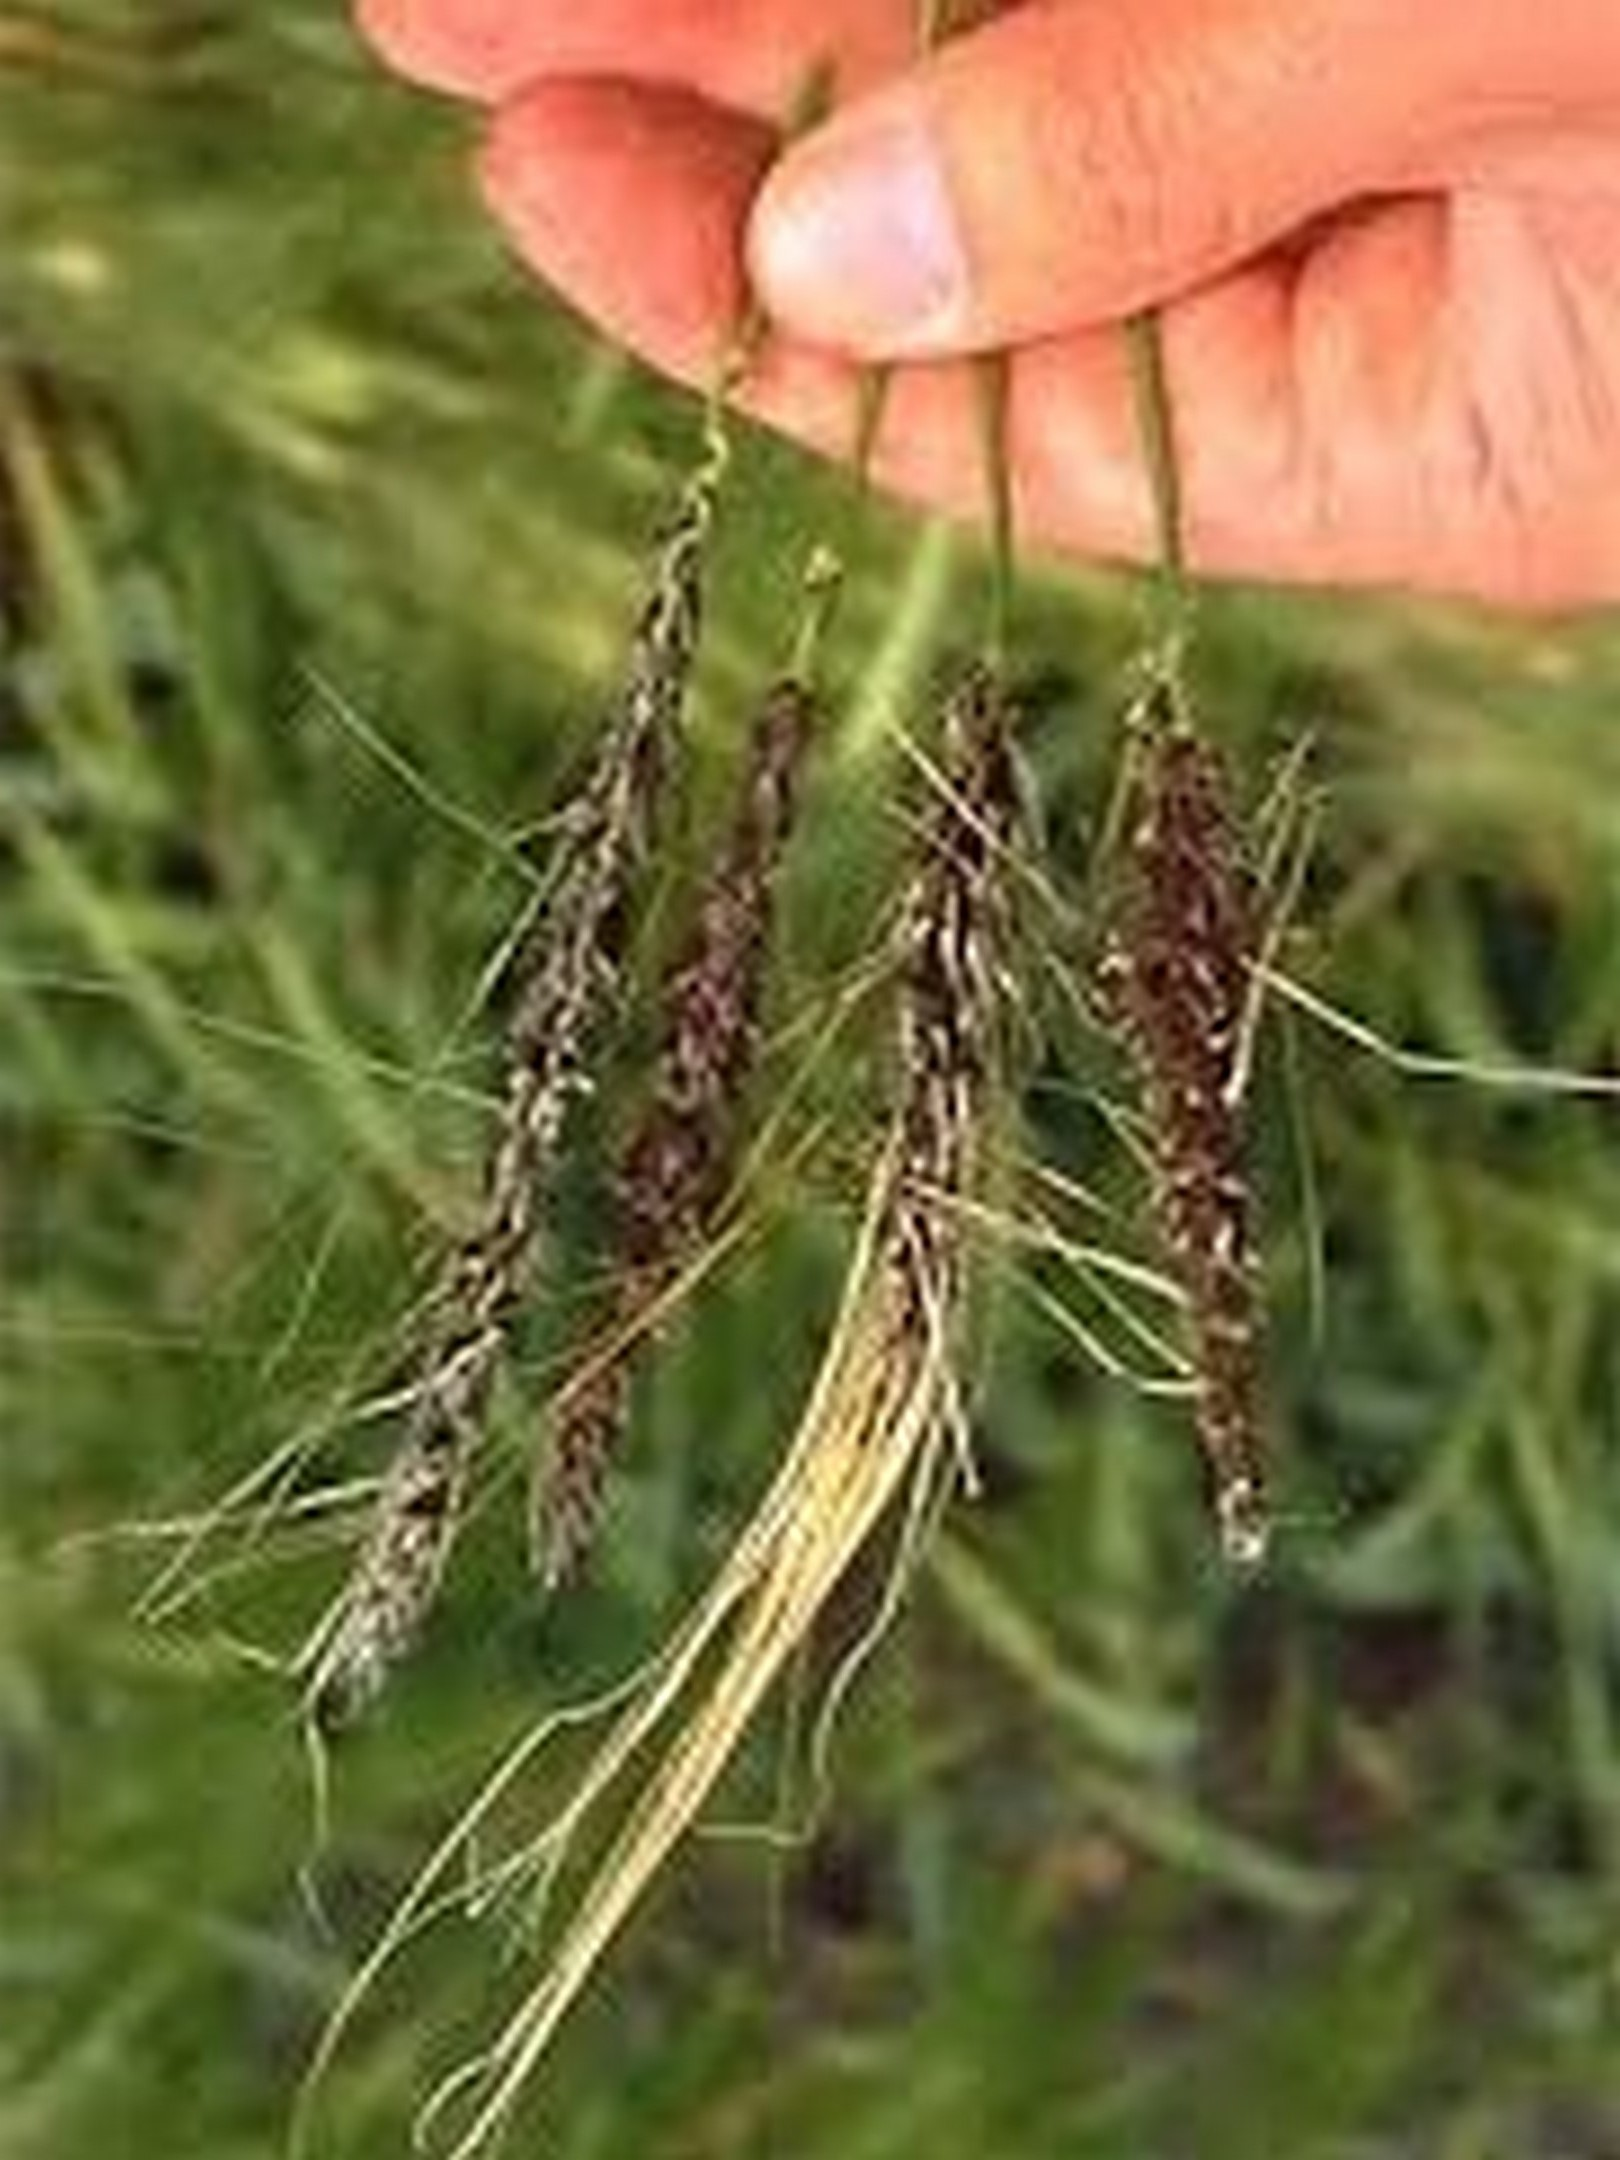Wheat Loose Smut: (310, 556, 1385, 1701)
